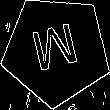M_S: (29, 21, 84, 80)
